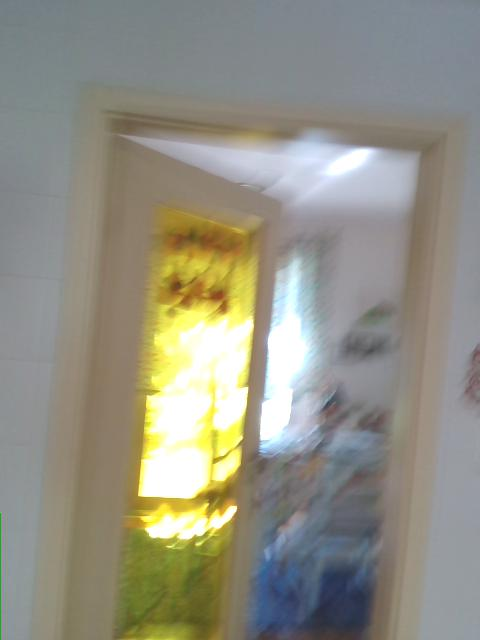semi_door: (26, 81, 470, 639)
